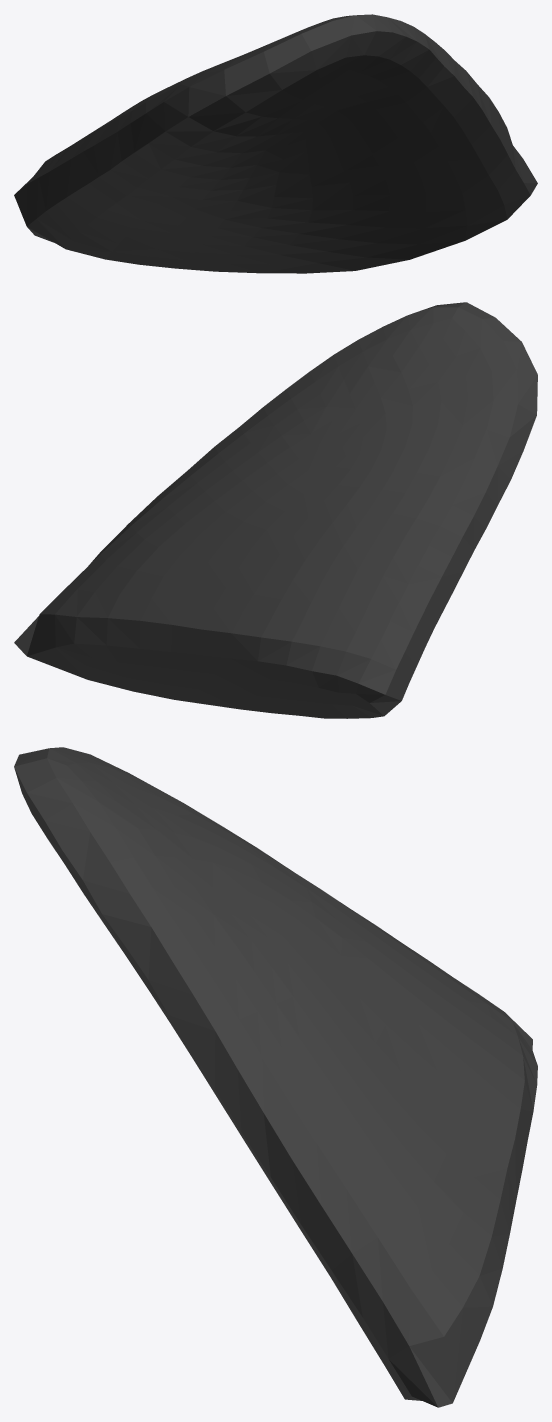
Rendered from Trapezius.glb.
3 renders of one model, top to bottom at view 1: azimuth 30°, elevation 25°; view 2: azimuth 150°, elevation 25°; view 3: azimuth 270°, elevation 25°, orthographic. The views are drawn at different scales.
Parts seen in each view (by area): view 1: Trapezius; view 2: Trapezius; view 3: Trapezius.
Boxes of the visible parts, <box> form: Trapezius: <box>14,14,537,273</box>; Trapezius: <box>14,302,537,718</box>; Trapezius: <box>14,747,537,1407</box>.
Bounding box in the file's own units: 0.3771 × 0.2944 × 0.2959.
1 material, 1 textured.
